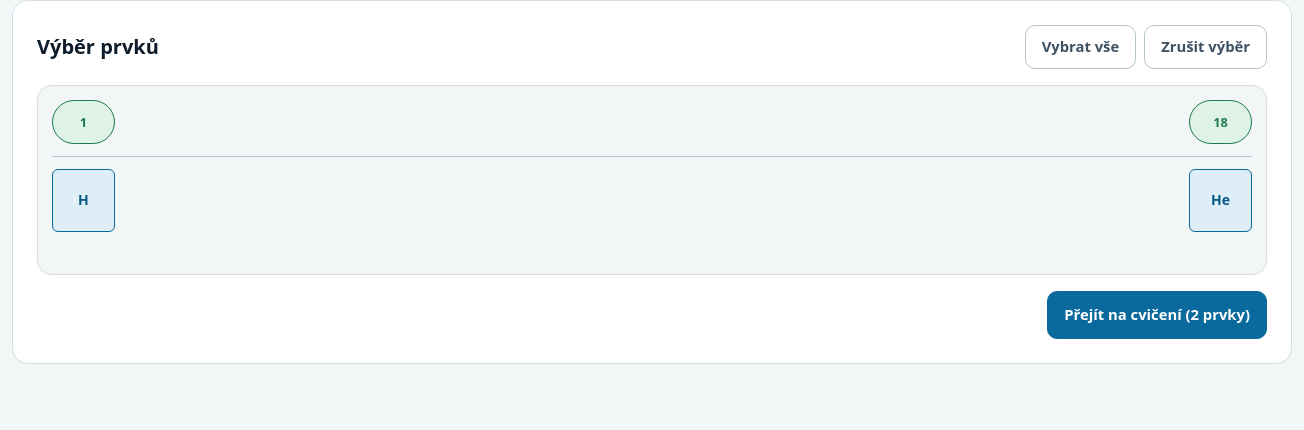
Test case: PeriodicTablePractice › lets the sought element be placed while its own cell still shows a red mark
Click the button "Přejít na cvičení (2 prvky)" at coordinates (1157, 315), box x1=1047 y1=291 x2=1267 y2=339
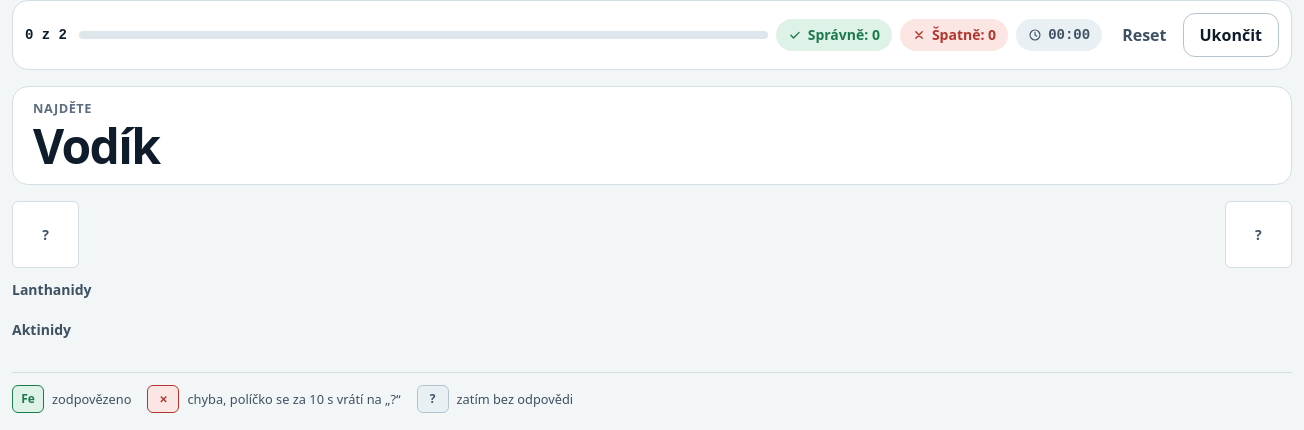
Click the button named "Perioda 1, skupina 18" at coordinates (1258, 235), box x1=1225 y1=201 x2=1292 y2=268
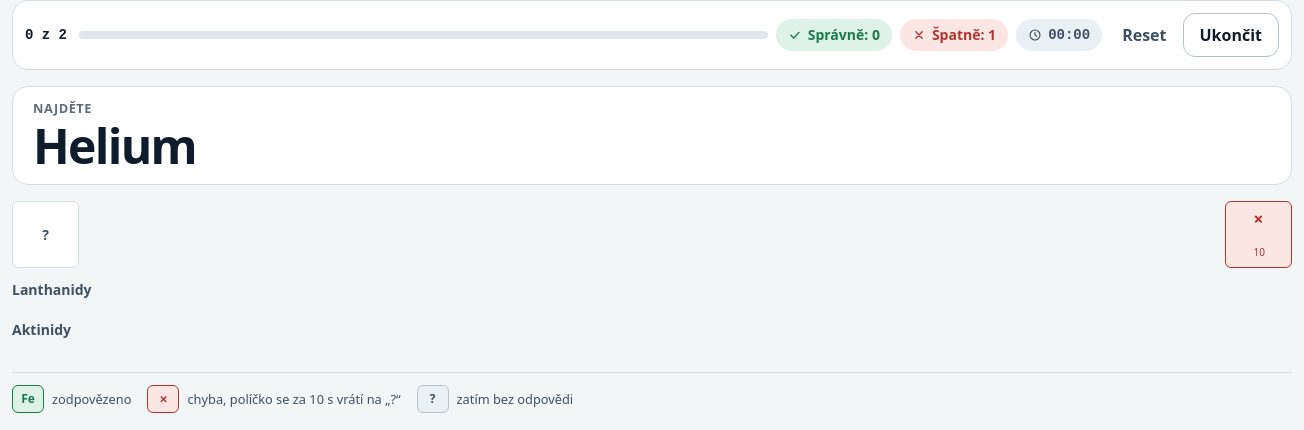
Click the button named "Perioda 1, skupina 18: chybná odpověď" at coordinates (1258, 235), box x1=1225 y1=201 x2=1292 y2=268
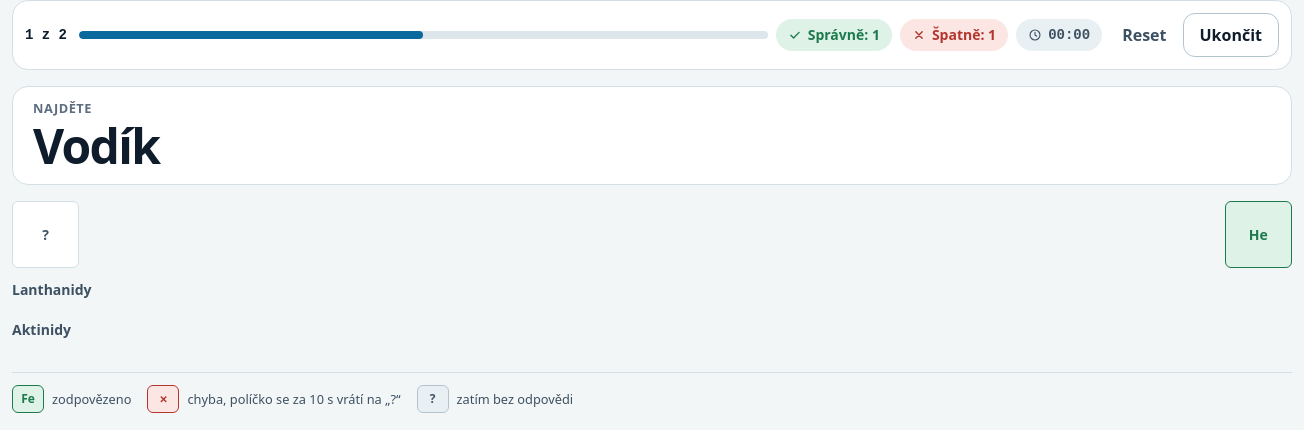
Expected: the button with aria-label "Perioda 1, skupina 18: He, vyřešeno" reads "He", x1=1225 y1=201 x2=1292 y2=268
Expected: the text "Správně: 1" is shown, x1=808 y1=25 x2=880 y2=45
